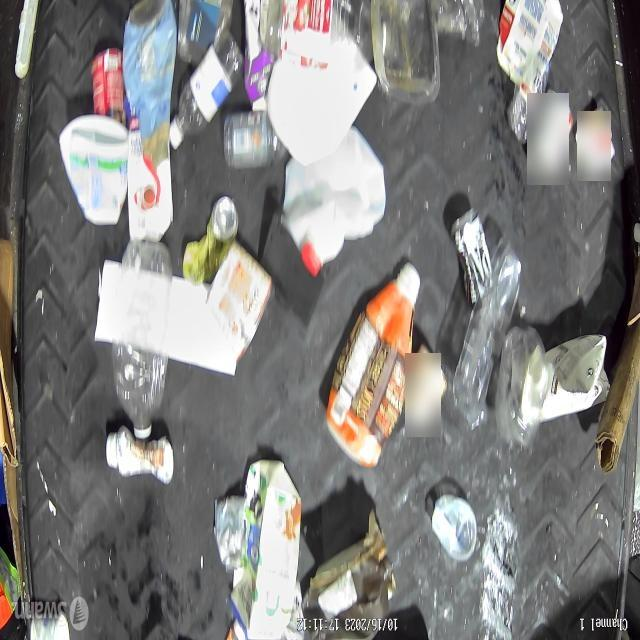milk_jug: (272, 130, 378, 286)
non_white_jug: (332, 270, 418, 483)
plastic_bottle: (454, 250, 518, 423), (170, 31, 240, 156)
